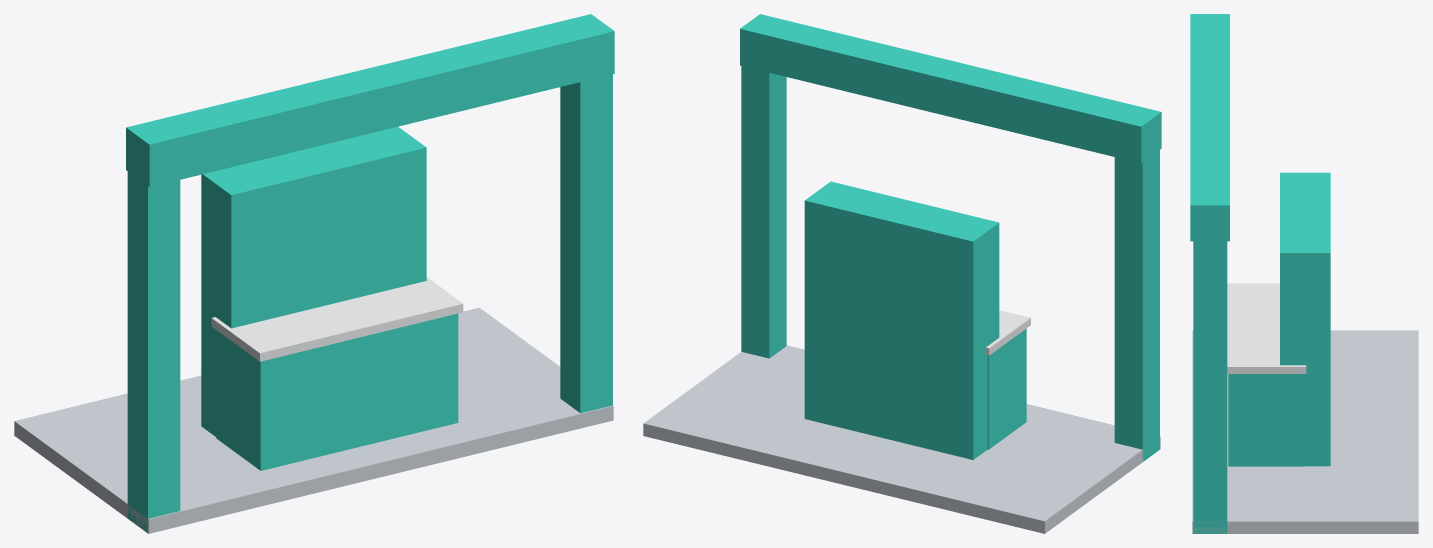
3 renders of one model, left to right at view 1: azimuth 30°, elevation 25°; view 2: azimuth 150°, elevation 25°; view 3: azimuth 270°, elevation 25°, orthographic. The views are drawn at different scales.
Parts seen in each view (by area): view 1: Exhibition Booth Concept; view 2: Exhibition Booth Concept; view 3: Exhibition Booth Concept.
Boxes of the visible parts, x1,y1,x2,y2 form: Exhibition Booth Concept: (14,14,614,533); Exhibition Booth Concept: (643,14,1161,533); Exhibition Booth Concept: (1190,14,1418,533).
Size of the model in its own units: 4 by 3.2 by 2.01.
